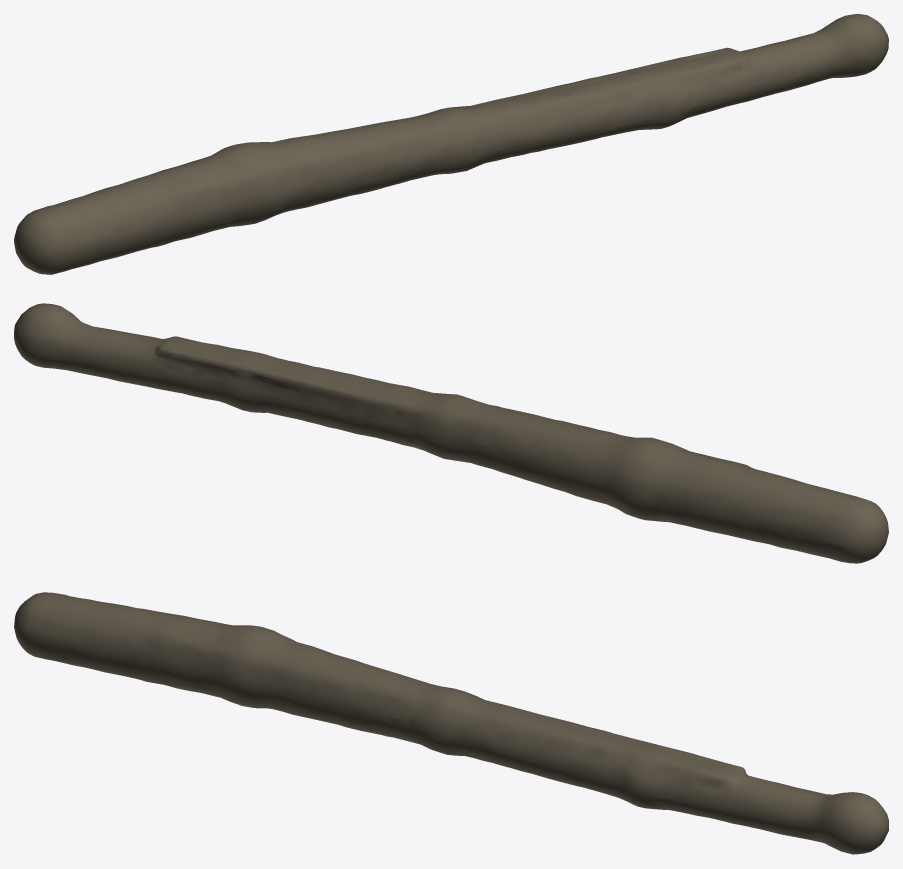
File: wa_arm_b.glb
The picture shows the model from 3 angles, top to bottom: view 1: azimuth 30°, elevation 25°; view 2: azimuth 150°, elevation 25°; view 3: azimuth 330°, elevation 25°; orthographic projection.
Parts seen in each view (by area): view 1: unterarm; view 2: unterarm; view 3: unterarm.
Boxes of the visible parts, left/top/right/bottom form: unterarm: left=14, top=14, right=888, bottom=274; unterarm: left=14, top=303, right=888, bottom=563; unterarm: left=14, top=592, right=888, bottom=854.
Bounding box in the file's own units: 0.6646 × 0.0547 × 0.0574.
